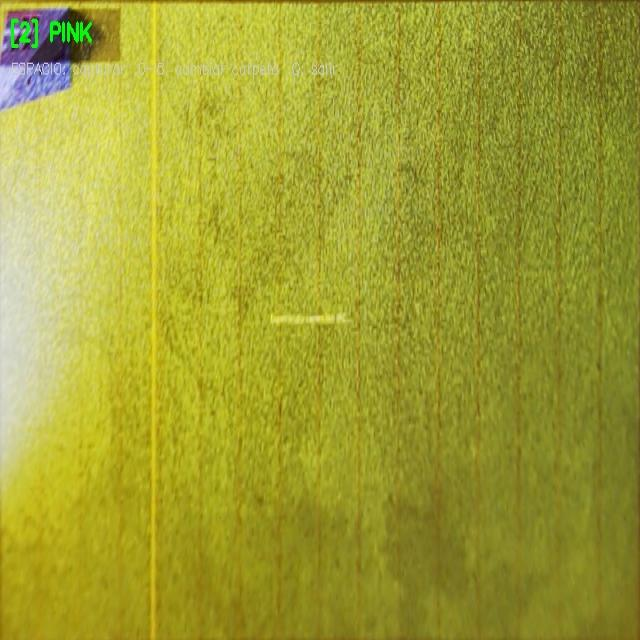pink: (3, 5, 71, 111)
